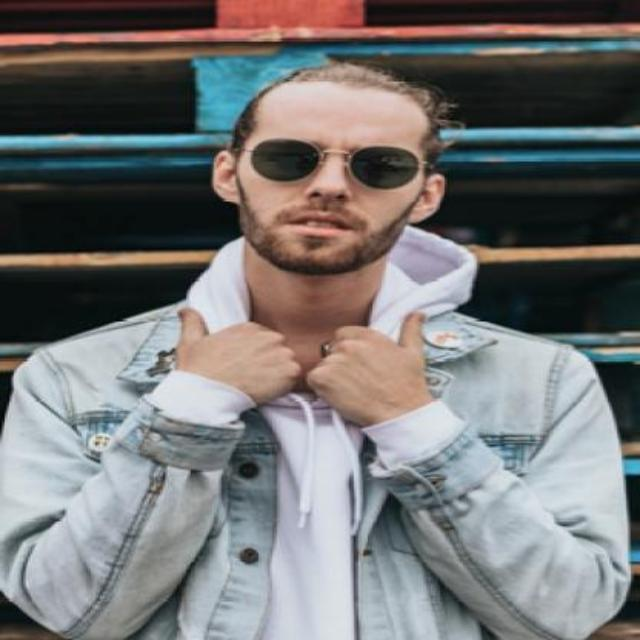glasses: (238, 136, 428, 188)
